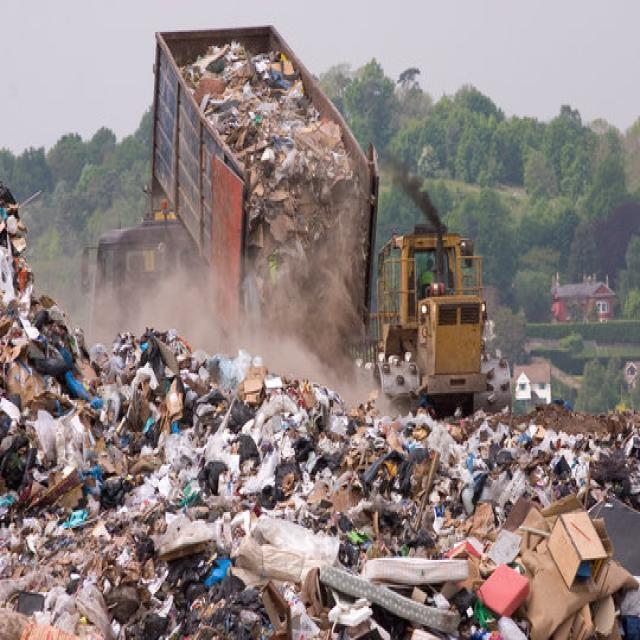cardboard: (526, 510, 618, 631)
trash: (13, 315, 499, 617), (202, 53, 340, 194)
